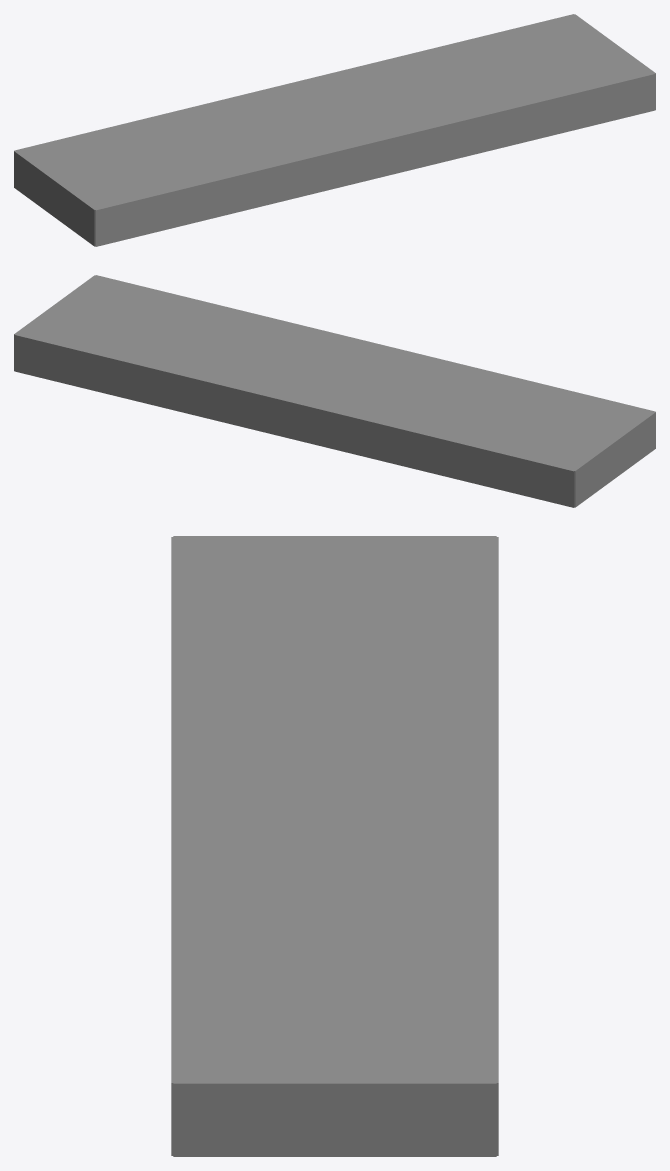
The model's file is lampa.gltf.
3 views of the same model, one above another, from view 1: azimuth 30°, elevation 25°; view 2: azimuth 150°, elevation 25°; view 3: azimuth 270°, elevation 25° (orthographic). The views are drawn at different scales.
Visible parts, largest first — view 1: cube (×5); view 2: cube (×5); view 3: cube (×6).
Part boxes in pixels (left/top/right/bottom): cube (×5): left=14, top=14, right=655, bottom=246; cube (×5): left=14, top=275, right=655, bottom=507; cube (×6): left=171, top=537, right=498, bottom=1156.
Bounding box in the file's own units: 1 × 0.0625 × 0.2531.
Materials: 1 (1 with a texture image).
